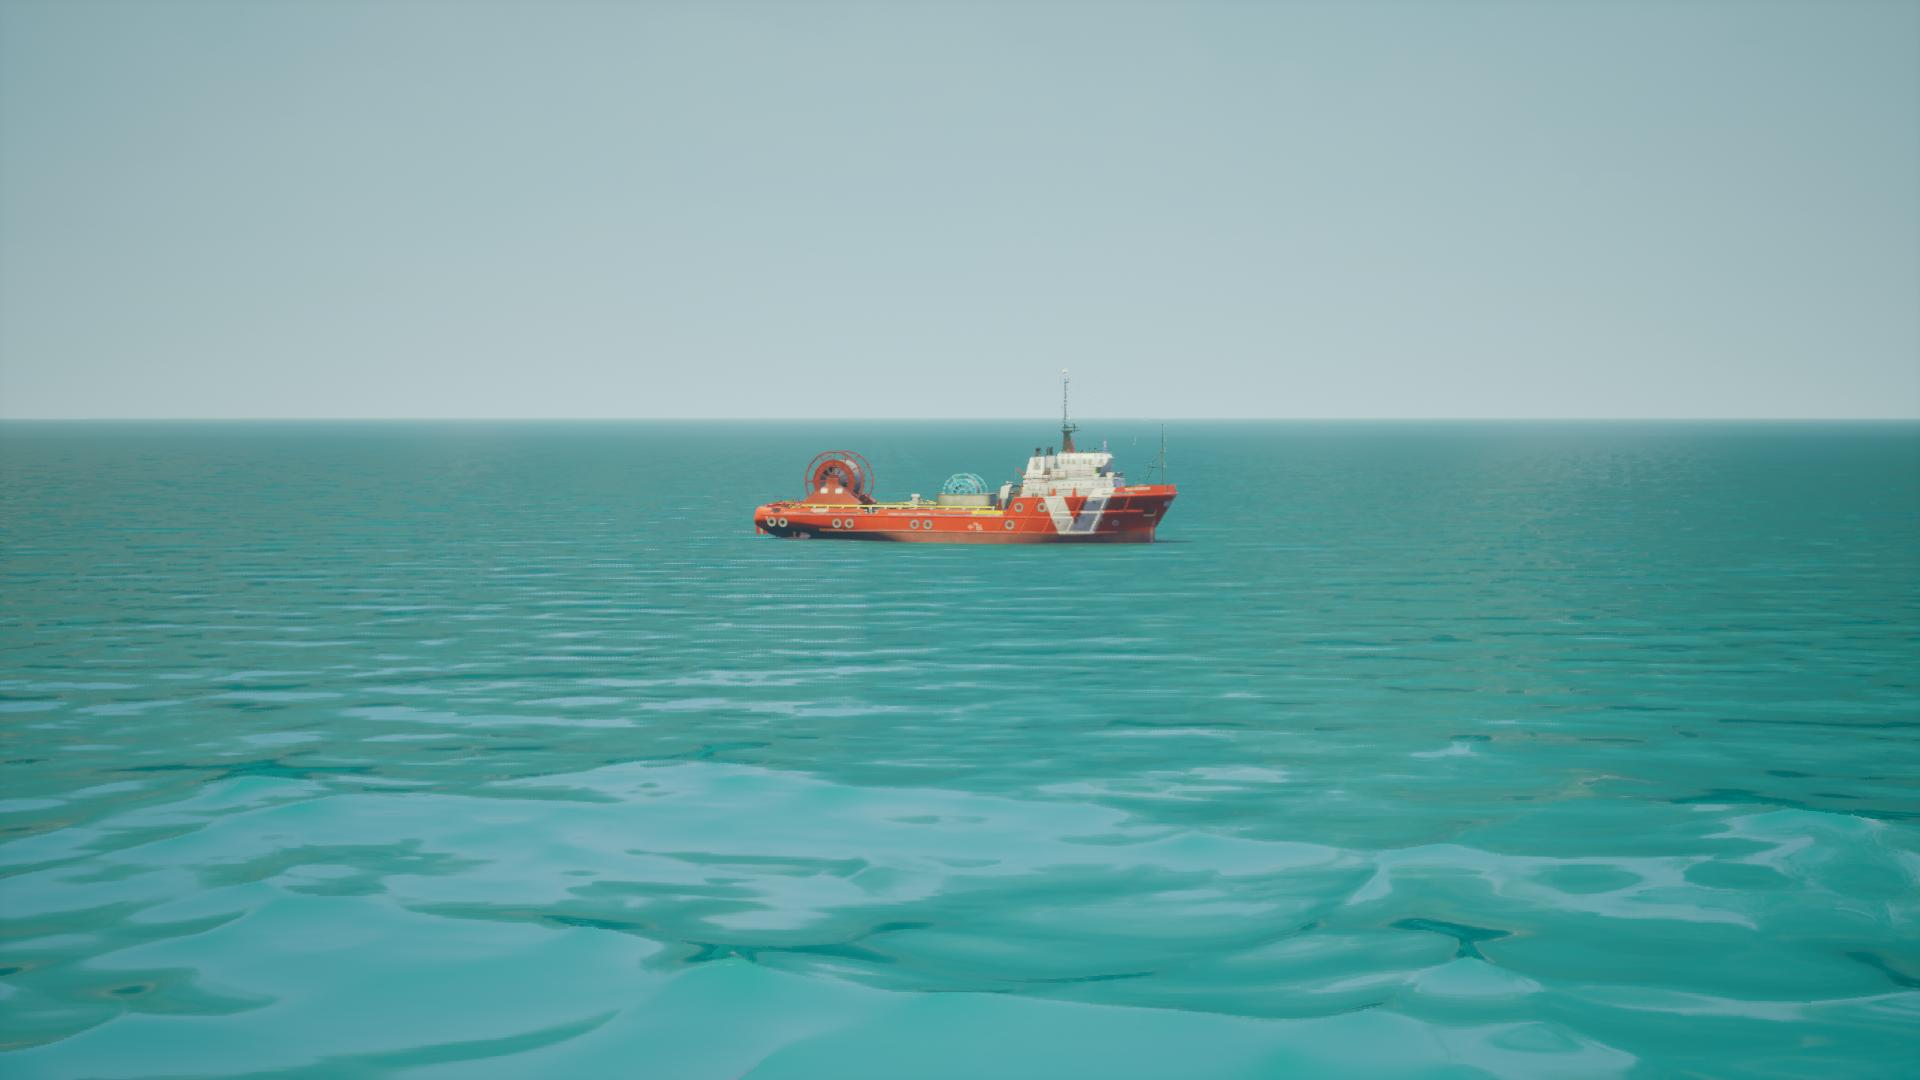Tug Boat: (753, 373, 1180, 547)
